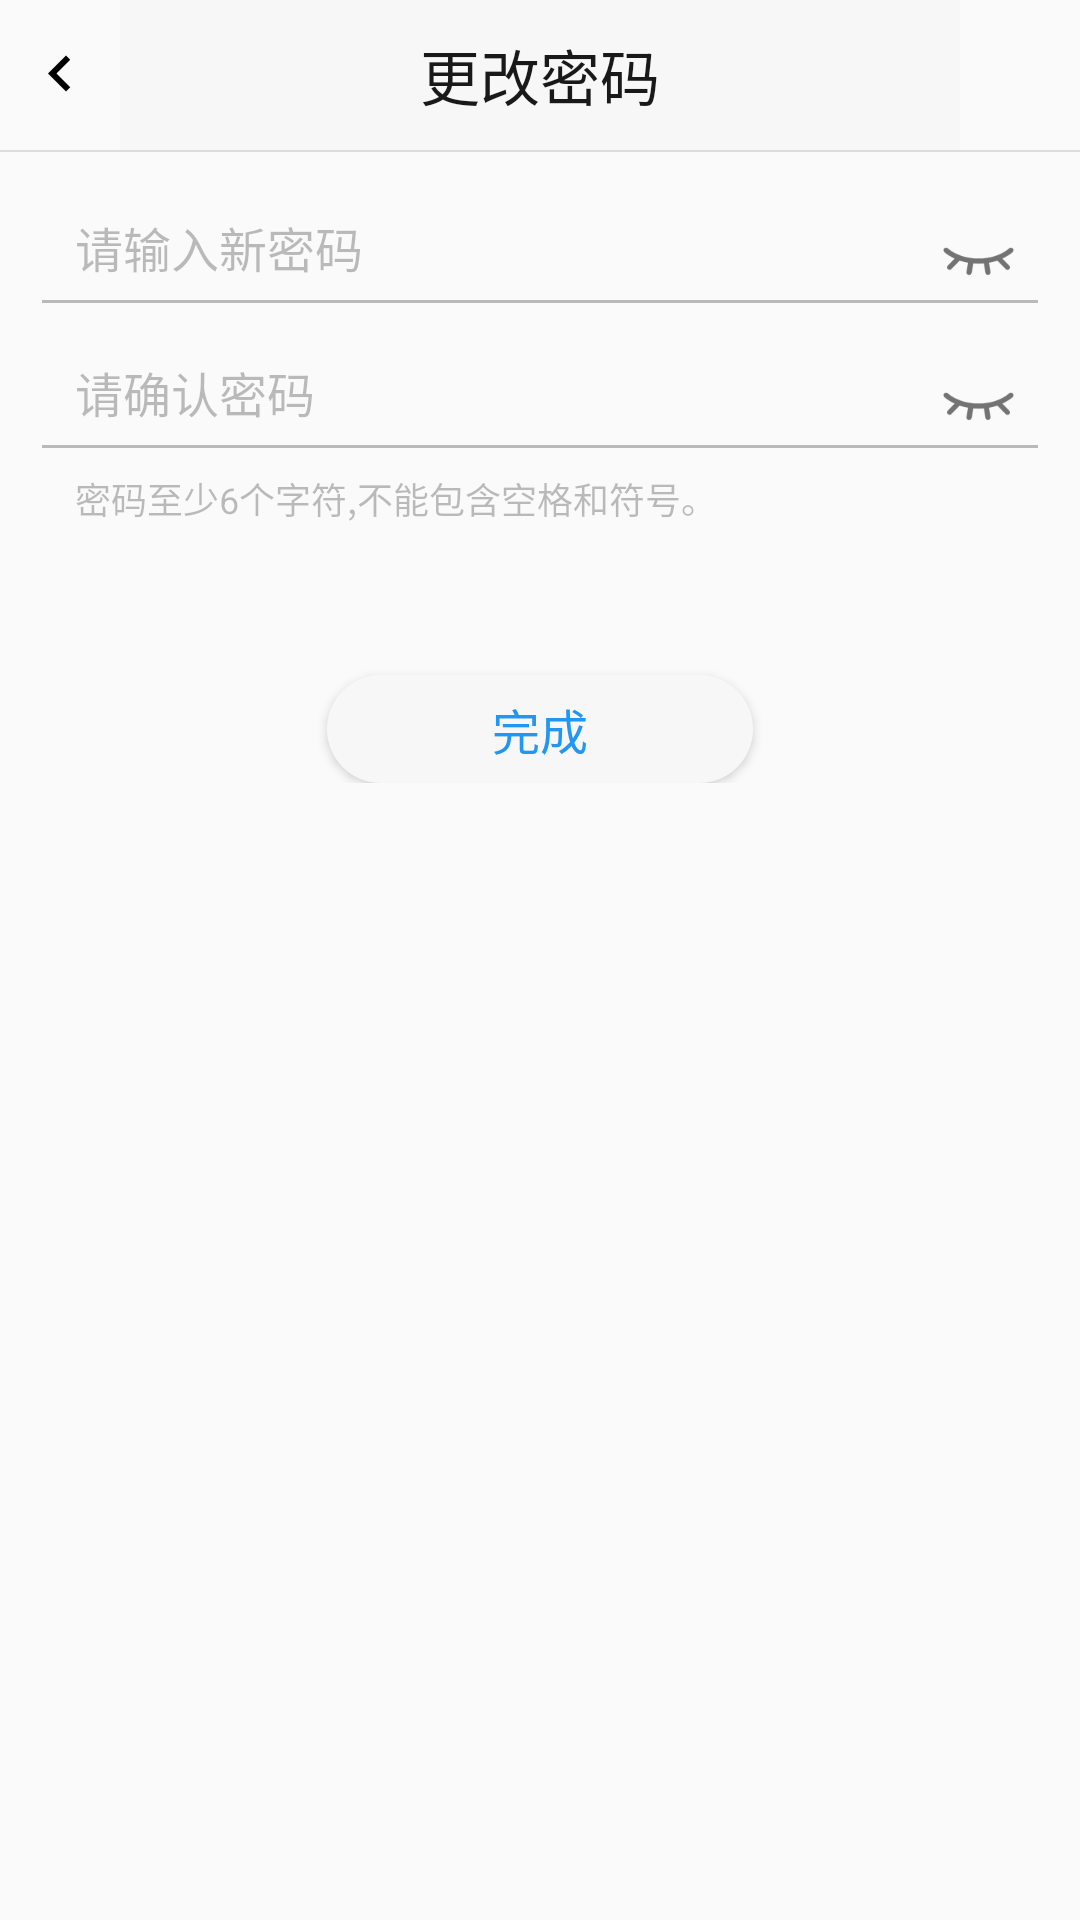

Screen size 1080px x 1920px. Icon name, then its center in pixels as (x=x, y=y):
back: (x=59, y=73)
